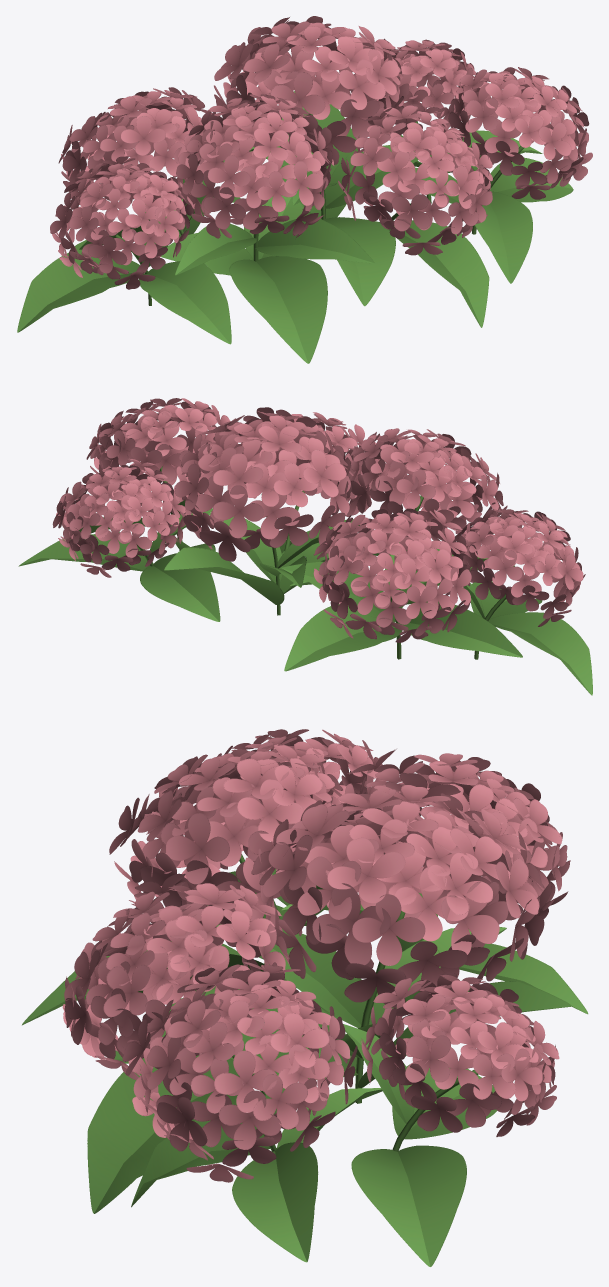
The model's file is Flowers_Flowerpot_1.fbx.
3 views of the same model, one above another, from view 1: azimuth 30°, elevation 25°; view 2: azimuth 150°, elevation 25°; view 3: azimuth 270°, elevation 25° (orthographic). The views are drawn at different scales.
Parts seen in each view (by area): view 1: Flowers_Flowerpot_1_LOD0; view 2: Flowers_Flowerpot_1_LOD0; view 3: Flowers_Flowerpot_1_LOD0.
Boxes of the visible parts, x1,y1,x2,y2 form: Flowers_Flowerpot_1_LOD0: (17,16,592,363); Flowers_Flowerpot_1_LOD0: (18,398,592,695); Flowers_Flowerpot_1_LOD0: (22,729,588,1266).
Size of what is drawn, in the model's own units: 114 by 48.4 by 68.4.
